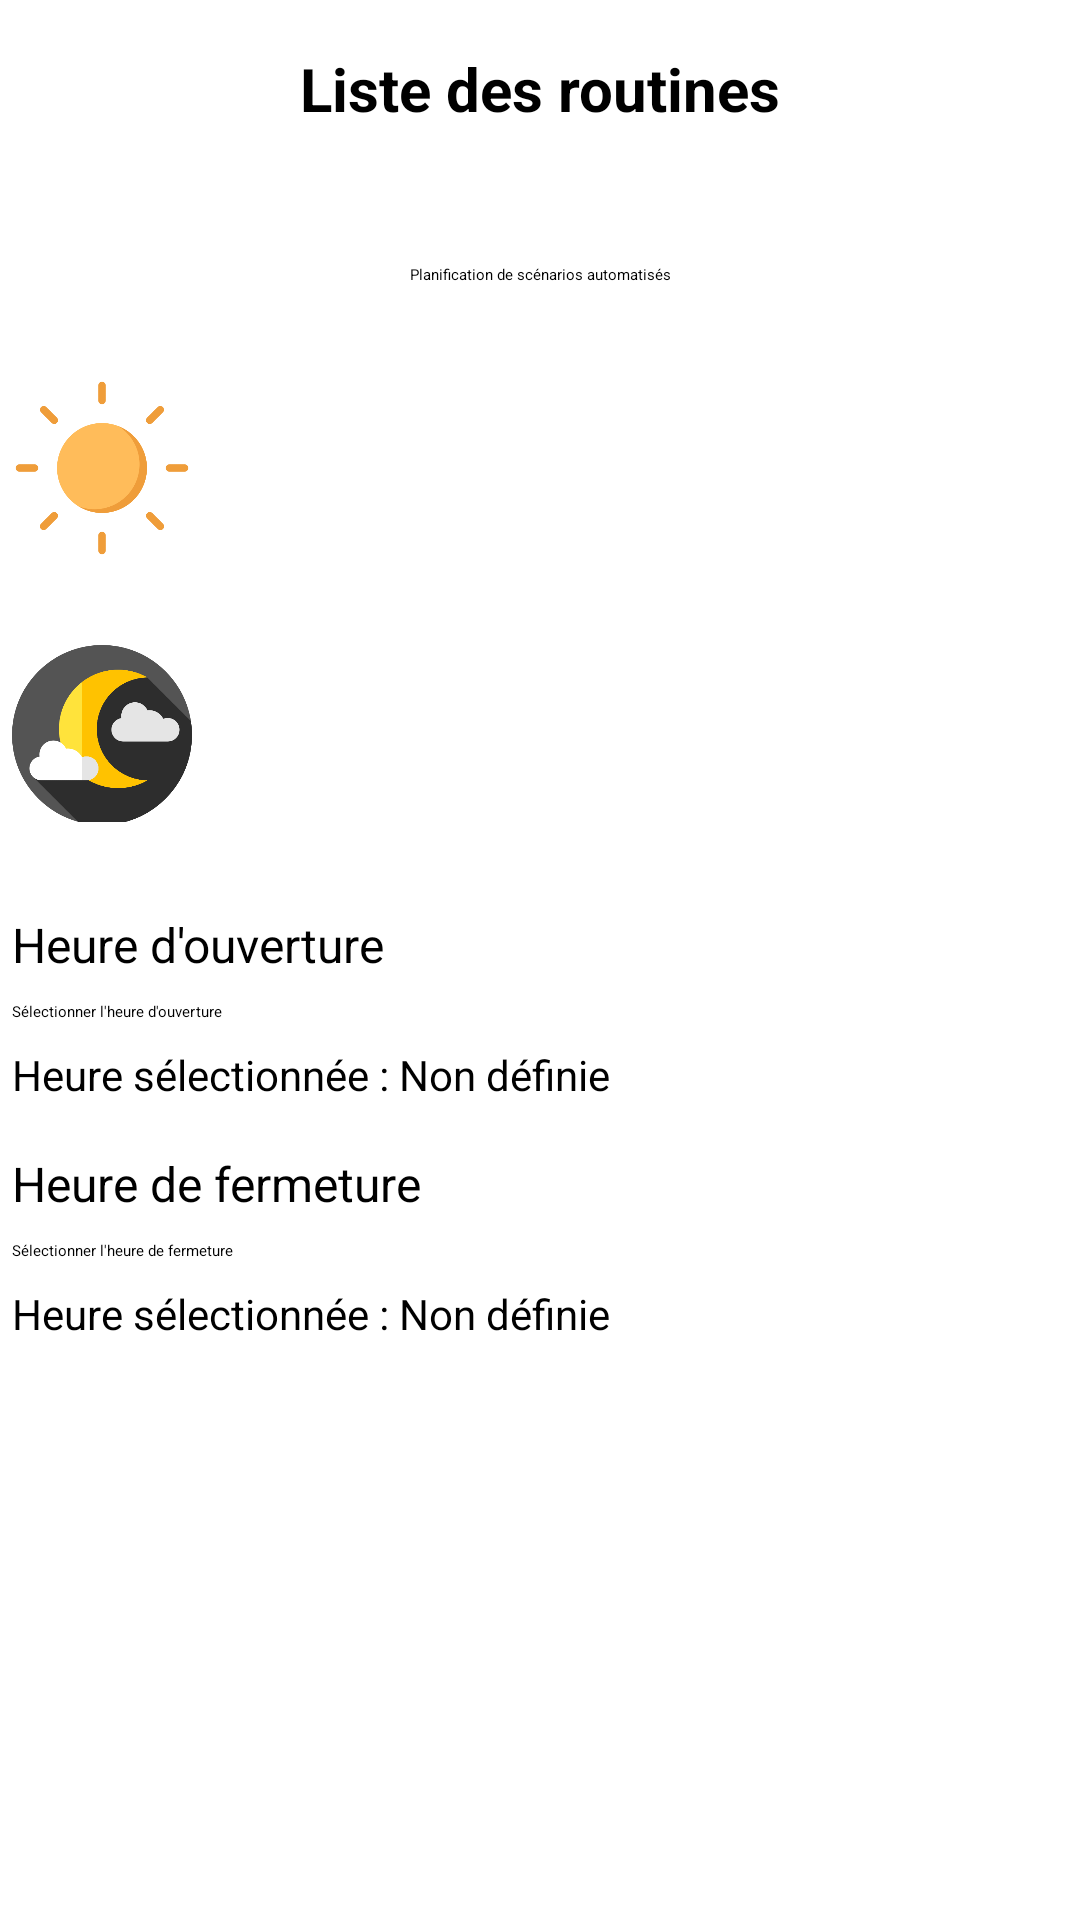

Where icons sit on this 1080 × 1920 app screen, as [x1,y1,x2,y2]:
nuit: [12,645,192,822]
sun: [16,382,188,554]
